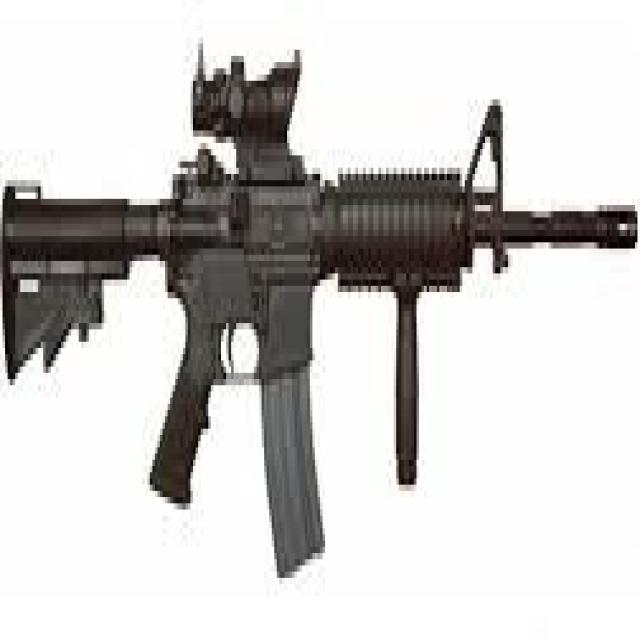rifle: (1, 19, 640, 601)
